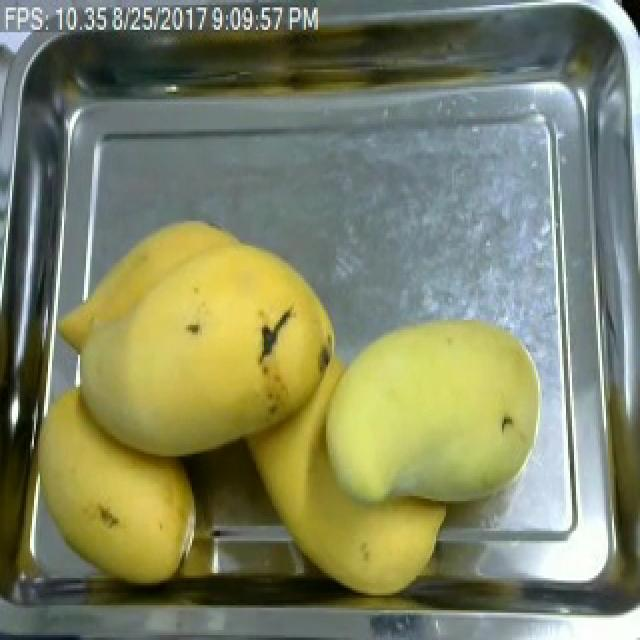fruit: (52, 206, 338, 469), (296, 307, 546, 518), (22, 384, 208, 598)
